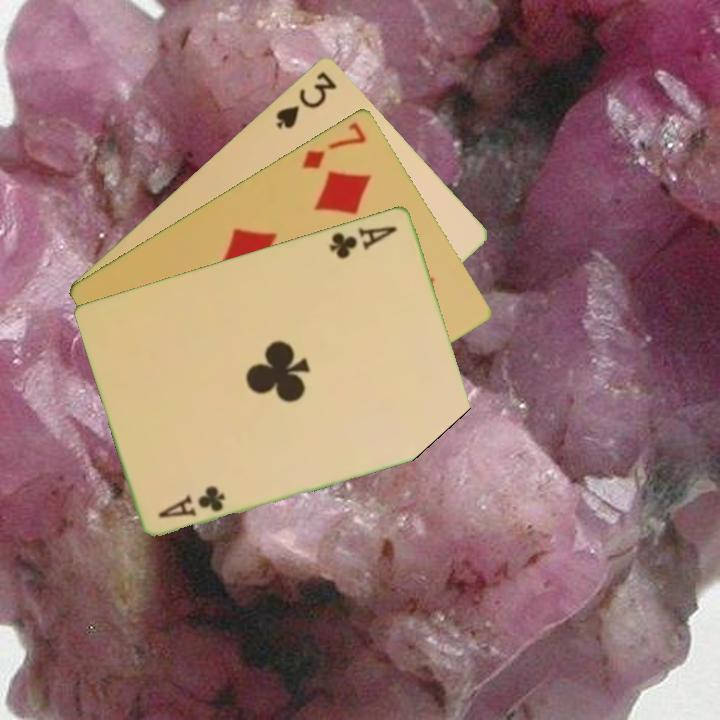3s: (272, 67, 340, 132)
7d: (298, 118, 370, 172)
Ac: (326, 222, 400, 262), (155, 481, 229, 521)
